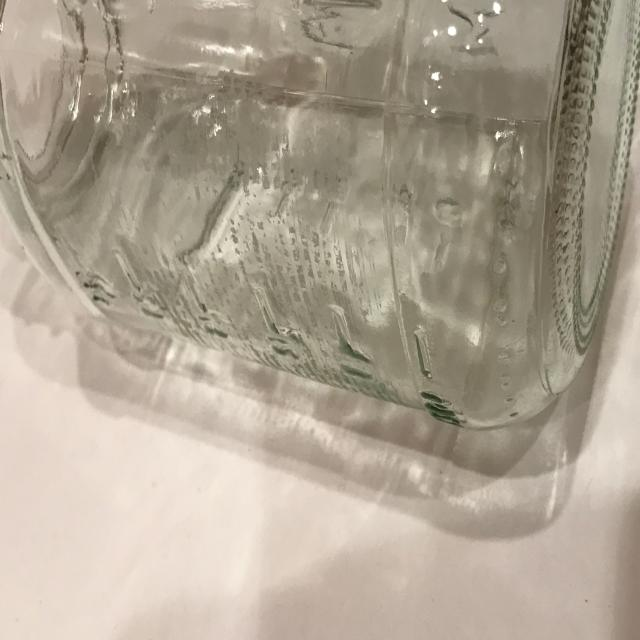glass: (0, 0, 640, 431)
